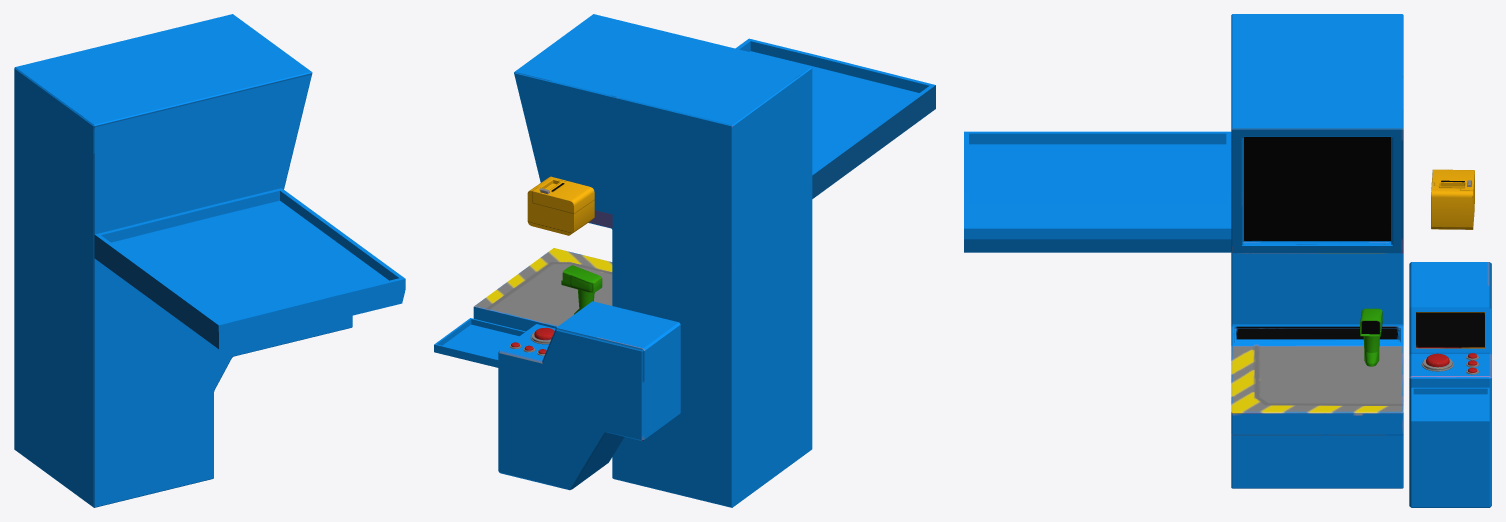
The model's file is mail_3 (2).fbx.
3 renders of one model, left to right at view 1: azimuth 30°, elevation 25°; view 2: azimuth 150°, elevation 25°; view 3: azimuth 270°, elevation 25°, orthographic. The views are drawn at different scales.
Visible parts, largest first — view 1: Cube.002; view 2: Cube.002, Cube.004, Cube.006, Cube.005; view 3: Cube.002, Cube.004, Cube.006, Cube.005.
Boxes of the visible parts, <box> form: Cube.002: <box>14,14,405,507</box>; Cube.002: <box>473,14,935,507</box>; Cube.004: <box>434,301,680,490</box>; Cube.006: <box>527,176,594,235</box>; Cube.005: <box>561,265,602,292</box>; Cube.002: <box>964,14,1403,488</box>; Cube.004: <box>1409,262,1491,507</box>; Cube.006: <box>1431,169,1474,229</box>; Cube.005: <box>1360,308,1382,336</box>.
Bounding box in the file's own units: 183 × 258 × 299.
